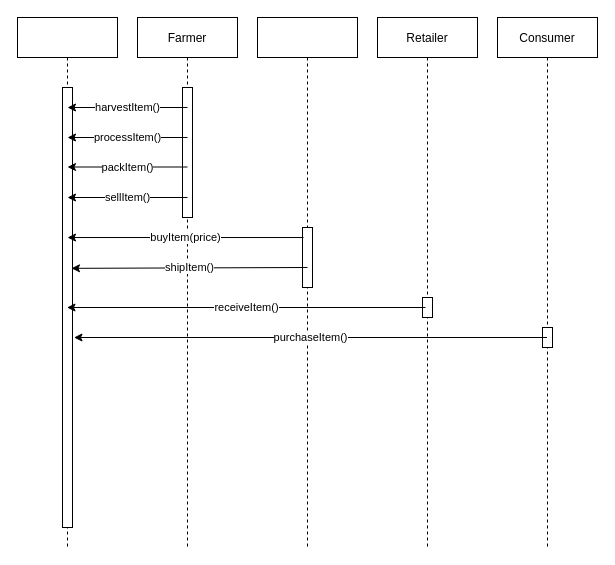
Image size: 615x565. Some labels were removed from this diagram. The box of each missing label's shape, as (x1, y1, x2, y2) in pixels:
Distributor: (256, 16, 358, 548)
Item: (16, 16, 118, 548)
